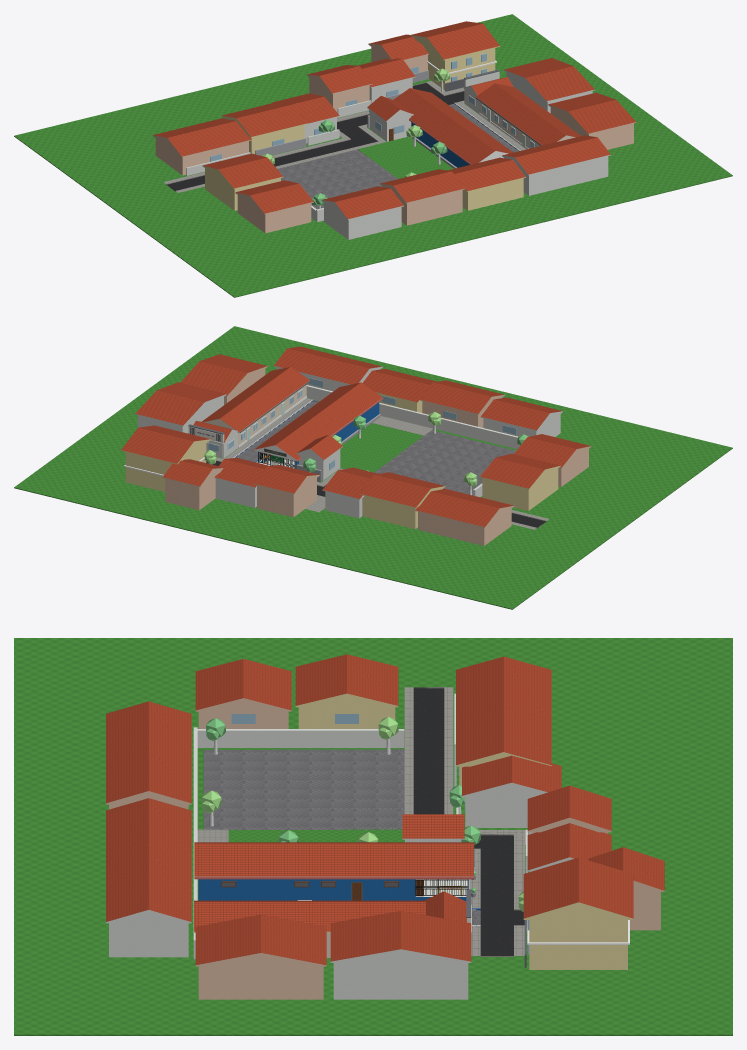
Rendered from denah_v2.fbx.
3 renders of one model, top to bottom at view 1: azimuth 30°, elevation 25°; view 2: azimuth 150°, elevation 25°; view 3: azimuth 270°, elevation 25°, orthographic. The views are drawn at different scales.
Parts seen in each view (by area): view 1: Env_Base_Ground_Rumput, Plane, TK_Atap_Pelana, PAUD_Atap_Panjang, Bg_Selatan_4_Atap, Bg_Timur_2_Atap, Seberang_Rumah_5_Atap, Bg_Timur_1_Atap, Seberang_Rumah2Lt_Atap, Env_Backyard_Connector, aspal, Bg_Selatan_4_Body (+25 smaller); view 2: Env_Base_Ground_Rumput, Plane, TK_Atap_Pelana, PAUD_Atap_Panjang, Env_Backyard_Connector, Bg_Timur_2_Atap, Bg_Selatan_4_Atap, Seberang_Rumah_5_Atap, Seberang_Rumah2Lt_Atap, Bg_Timur_1_Atap, Lapangan_Pagar_Selatan, Seberang_Rumah_4_Atap (+27 smaller); view 3: Env_Base_Ground_Rumput, Plane, TK_Atap_Pelana, aspal, Bg_Timur_2_Atap, Bg_Selatan_4_Atap, Bg_Timur_1_Atap, Seberang_Rumah2Lt_Atap, Bg_Timur_2_Body, Bg_Barat_2_Atap, Seberang_Rumah_5_Atap, Seberang_Rumah2Lt_Kuning_Body (+23 smaller).
Part boxes in pixels (left/top/right/bottom): Env_Base_Ground_Rumput: left=14, top=14, right=732, bottom=297; Plane: left=163, top=81, right=526, bottom=209; TK_Atap_Pelana: left=393, top=88, right=512, bottom=164; PAUD_Atap_Panjang: left=475, top=83, right=580, bottom=145; Bg_Selatan_4_Atap: left=502, top=135, right=610, bottom=175; Bg_Timur_2_Atap: left=503, top=58, right=594, bottom=101; Seberang_Rumah_5_Atap: left=152, top=118, right=251, bottom=157; Bg_Timur_1_Atap: left=548, top=92, right=636, bottom=134; Seberang_Rumah2Lt_Atap: left=410, top=21, right=499, bottom=60; Env_Backyard_Connector: left=358, top=137, right=453, bottom=178; aspal: left=167, top=83, right=464, bottom=190; Bg_Selatan_4_Body: left=522, top=156, right=608, bottom=195; Env_Base_Ground_Rumput: left=14, top=326, right=732, bottom=609; Plane: left=216, top=398, right=548, bottom=529; TK_Atap_Pelana: left=253, top=382, right=382, bottom=460; PAUD_Atap_Panjang: left=202, top=367, right=309, bottom=432; Env_Backyard_Connector: left=340, top=423, right=433, bottom=472; Bg_Timur_2_Atap: left=135, top=382, right=226, bottom=426; Bg_Selatan_4_Atap: left=274, top=346, right=382, bottom=384; Seberang_Rumah_5_Atap: left=415, top=488, right=514, bottom=527; Seberang_Rumah2Lt_Atap: left=121, top=425, right=210, bottom=464; Bg_Timur_1_Atap: left=180, top=354, right=267, bottom=395; Lapangan_Pagar_Selatan: left=306, top=385, right=520, bottom=449; Seberang_Rumah_4_Atap: left=359, top=472, right=445, bottom=508; Env_Base_Ground_Rumput: left=14, top=638, right=732, bottom=1035; Plane: left=203, top=687, right=530, bottom=956; TK_Atap_Pelana: left=194, top=842, right=473, bottom=876; aspal: left=413, top=688, right=524, bottom=955; Bg_Timur_2_Atap: left=330, top=911, right=471, bottom=962; Bg_Selatan_4_Atap: left=106, top=844, right=191, bottom=923; Bg_Timur_1_Atap: left=195, top=914, right=326, bottom=966; Seberang_Rumah2Lt_Atap: left=523, top=857, right=633, bottom=919; Bg_Timur_2_Body: left=333, top=963, right=468, bottom=999; Bg_Barat_2_Atap: left=295, top=654, right=398, bottom=707; Seberang_Rumah_5_Atap: left=456, top=656, right=551, bottom=719; Seberang_Rumah2Lt_Kuning_Body: left=529, top=920, right=627, bottom=969.
Bounding box in the file's own units: 9400 × 804 × 7200.
95 materials, 38 textured.
